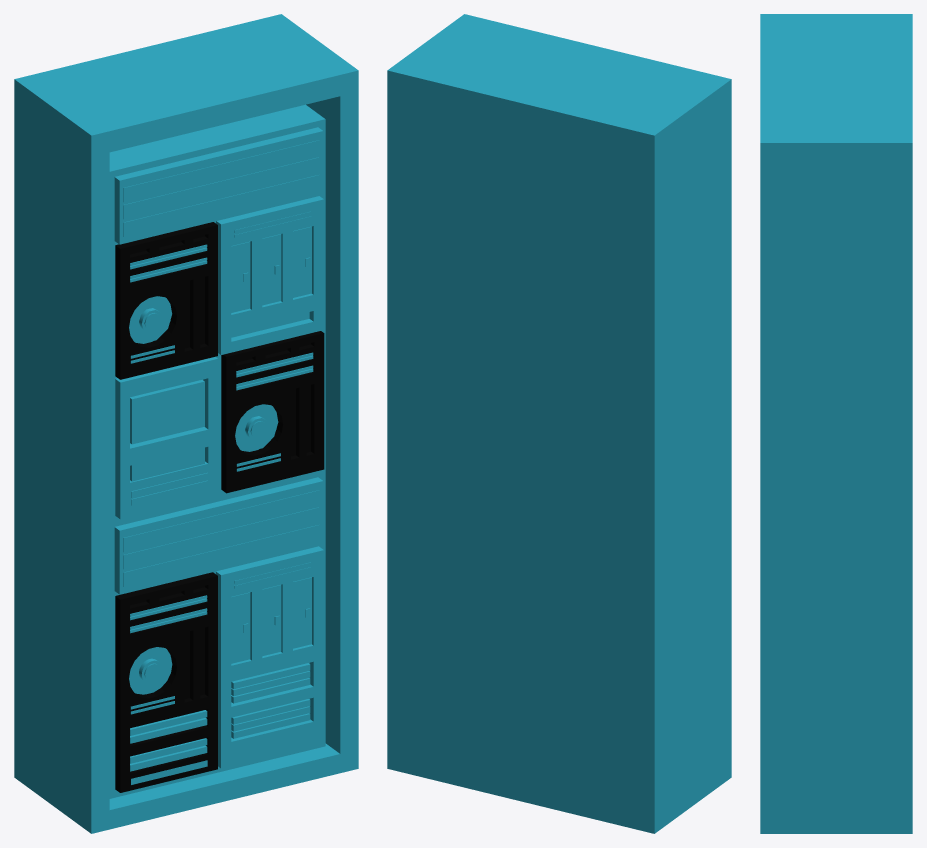
File: SM_Supercomputer_A01.fbx
3 views of the same model, side by side, from view 1: azimuth 30°, elevation 25°; view 2: azimuth 150°, elevation 25°; view 3: azimuth 270°, elevation 25° (orthographic).
Visible parts, largest first — view 1: SM_Supercomputer_A01; view 2: SM_Supercomputer_A01; view 3: SM_Supercomputer_A01.
Boxes of the visible parts, bbox=[...] form: SM_Supercomputer_A01: bbox=[14, 14, 358, 833]; SM_Supercomputer_A01: bbox=[387, 14, 731, 833]; SM_Supercomputer_A01: bbox=[760, 14, 912, 833].
Bounding box in the file's own units: 100 × 250 × 50.
